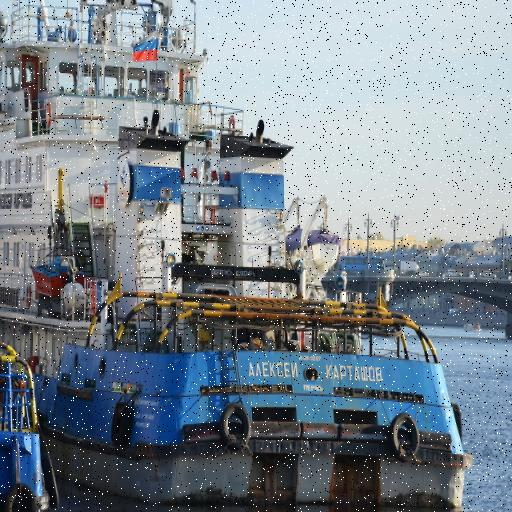tugboat: (1, 1, 478, 512)
